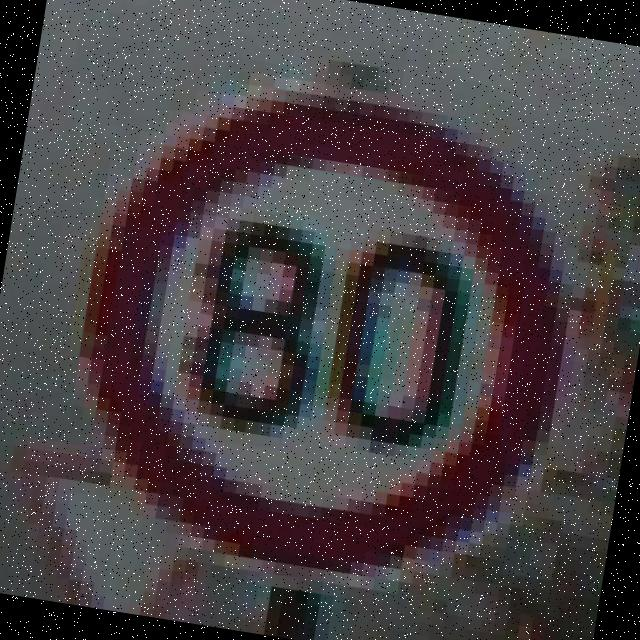Ograniczenie predkosci do 80: (56, 70, 598, 611)
